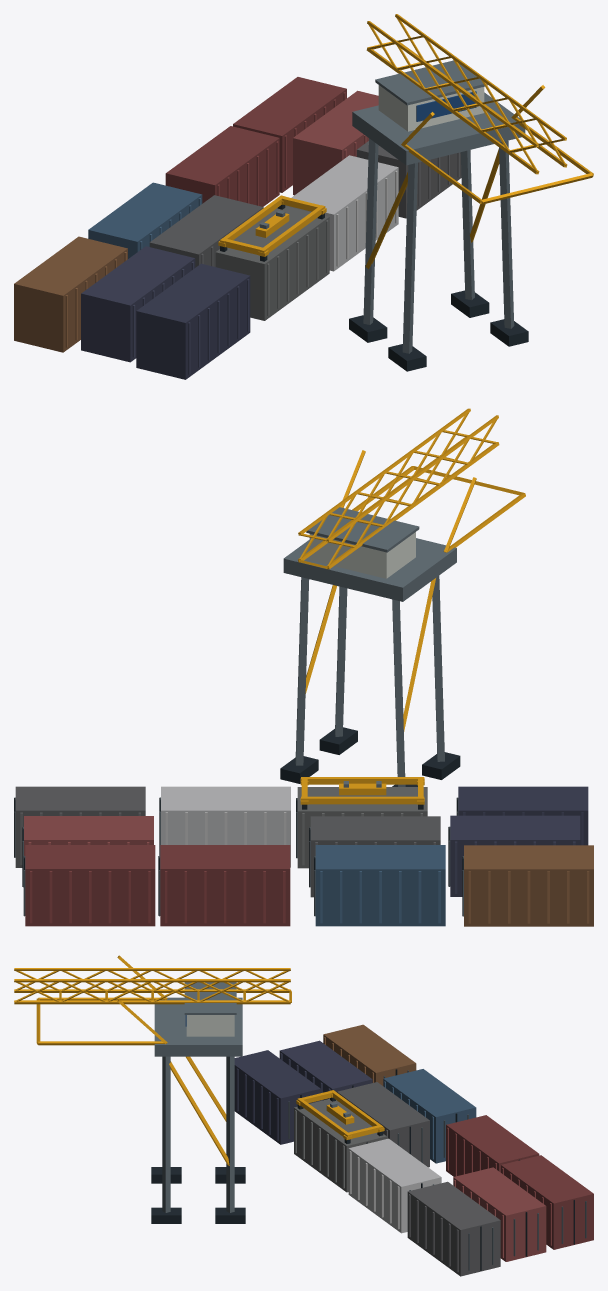
Rendered from gantry-crane-ne-sw-04.glb.
3 views of the same model, one above another, from view 1: azimuth 30°, elevation 25°; view 2: azimuth 150°, elevation 25°; view 3: azimuth 270°, elevation 25° (orthographic). The views are drawn at different scales.
Parts seen in each view (by area): view 1: gantry-crane-ne-sw-04; view 2: gantry-crane-ne-sw-04; view 3: gantry-crane-ne-sw-04.
Boxes of the visible parts, box(x1,y1,x2,y2) form: gantry-crane-ne-sw-04: box(14, 14, 593, 379); gantry-crane-ne-sw-04: box(14, 408, 593, 926); gantry-crane-ne-sw-04: box(14, 955, 593, 1276).
Bounding box in the file's own units: 60.78 × 31.18 × 72.47.
